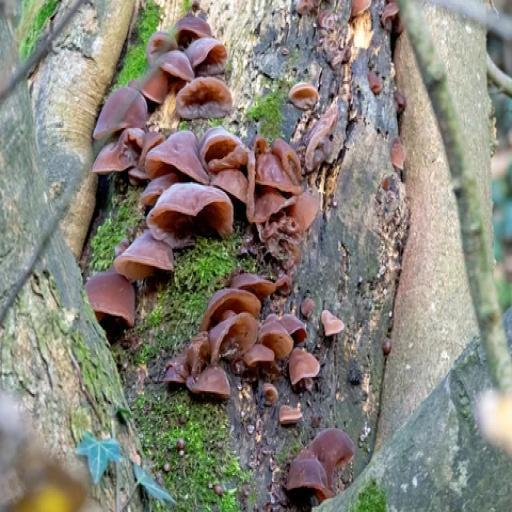mushroom: (175, 276, 309, 400), (248, 136, 323, 268), (143, 14, 231, 112), (143, 180, 235, 250), (282, 426, 355, 501), (82, 256, 147, 331), (107, 220, 179, 284), (165, 332, 227, 406), (143, 122, 214, 183), (85, 127, 162, 176), (91, 85, 148, 136), (198, 124, 248, 176), (206, 158, 254, 205), (283, 345, 325, 389), (137, 170, 184, 207), (319, 307, 347, 344), (284, 81, 315, 112), (277, 391, 305, 423)
